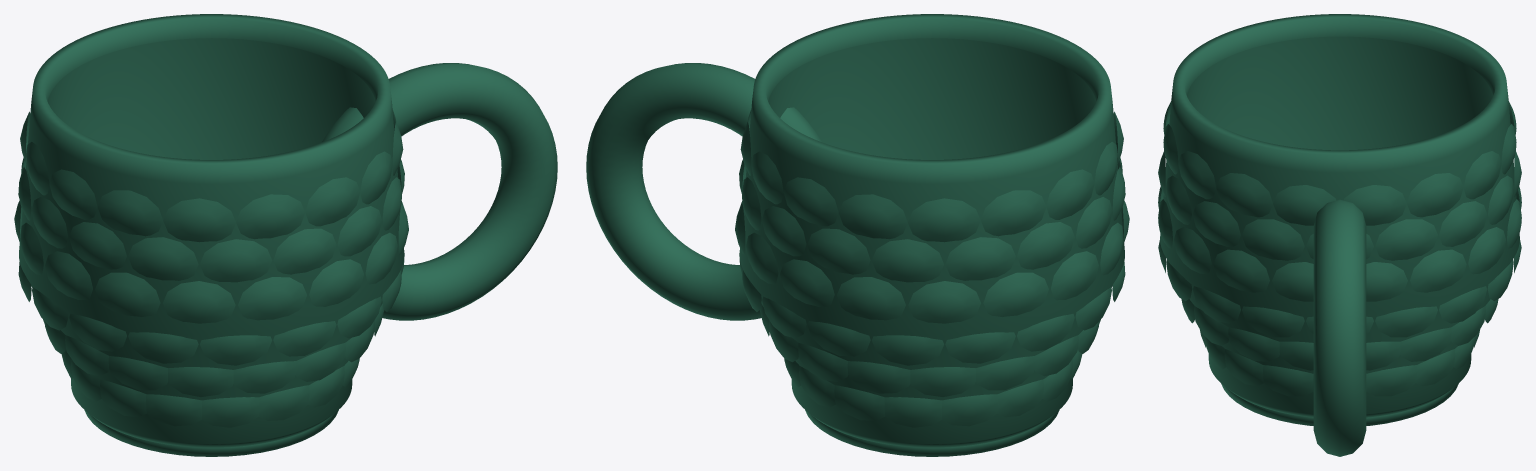
File: mug-scale_green.glb
3 renders of one model, left to right at view 1: azimuth 30°, elevation 25°; view 2: azimuth 150°, elevation 25°; view 3: azimuth 270°, elevation 25°, orthographic. The views are drawn at different scales.
Parts seen in each view (by area): view 1: CI_070_mug_scale_green_sculpted_scales, CI_070_mug_scale_green_ceramic_body, CI_070_mug_scale_green_inner_glaze, CI_070_mug_scale_green_handle, CI_070_mug_scale_green_ceramic_foot; view 2: CI_070_mug_scale_green_sculpted_scales, CI_070_mug_scale_green_ceramic_body, CI_070_mug_scale_green_inner_glaze, CI_070_mug_scale_green_handle, CI_070_mug_scale_green_ceramic_foot; view 3: CI_070_mug_scale_green_sculpted_scales, CI_070_mug_scale_green_ceramic_body, CI_070_mug_scale_green_inner_glaze, CI_070_mug_scale_green_handle, CI_070_mug_scale_green_ceramic_foot.
Part boxes in pixels (left/top/right/bottom): CI_070_mug_scale_green_sculpted_scales: left=14, top=110, right=408, bottom=427; CI_070_mug_scale_green_ceramic_body: left=19, top=14, right=404, bottom=447; CI_070_mug_scale_green_inner_glaze: left=47, top=38, right=375, bottom=159; CI_070_mug_scale_green_handle: left=322, top=63, right=557, bottom=320; CI_070_mug_scale_green_ceramic_foot: left=84, top=410, right=338, bottom=456; CI_070_mug_scale_green_sculpted_scales: left=735, top=110, right=1129, bottom=427; CI_070_mug_scale_green_ceramic_body: left=739, top=14, right=1124, bottom=447; CI_070_mug_scale_green_inner_glaze: left=768, top=38, right=1096, bottom=159; CI_070_mug_scale_green_handle: left=586, top=63, right=821, bottom=320; CI_070_mug_scale_green_ceramic_foot: left=805, top=410, right=1059, bottom=456; CI_070_mug_scale_green_sculpted_scales: left=1158, top=101, right=1521, bottom=396; CI_070_mug_scale_green_ceramic_body: left=1160, top=14, right=1519, bottom=417; CI_070_mug_scale_green_inner_glaze: left=1187, top=36, right=1492, bottom=150; CI_070_mug_scale_green_handle: left=1313, top=199, right=1366, bottom=456; CI_070_mug_scale_green_ceramic_foot: left=1221, top=383, right=1458, bottom=425.
Size of the model in its own units: 0.1469 by 0.086 by 0.097.
